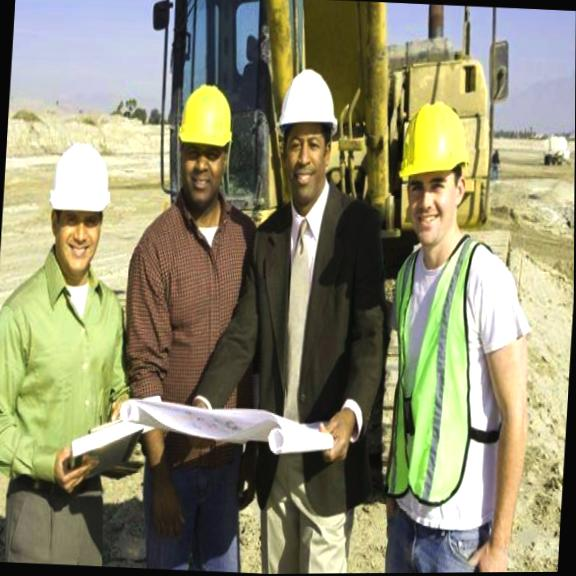no_safety_vest: (222, 189, 385, 504), (118, 194, 255, 473), (0, 253, 119, 485)
